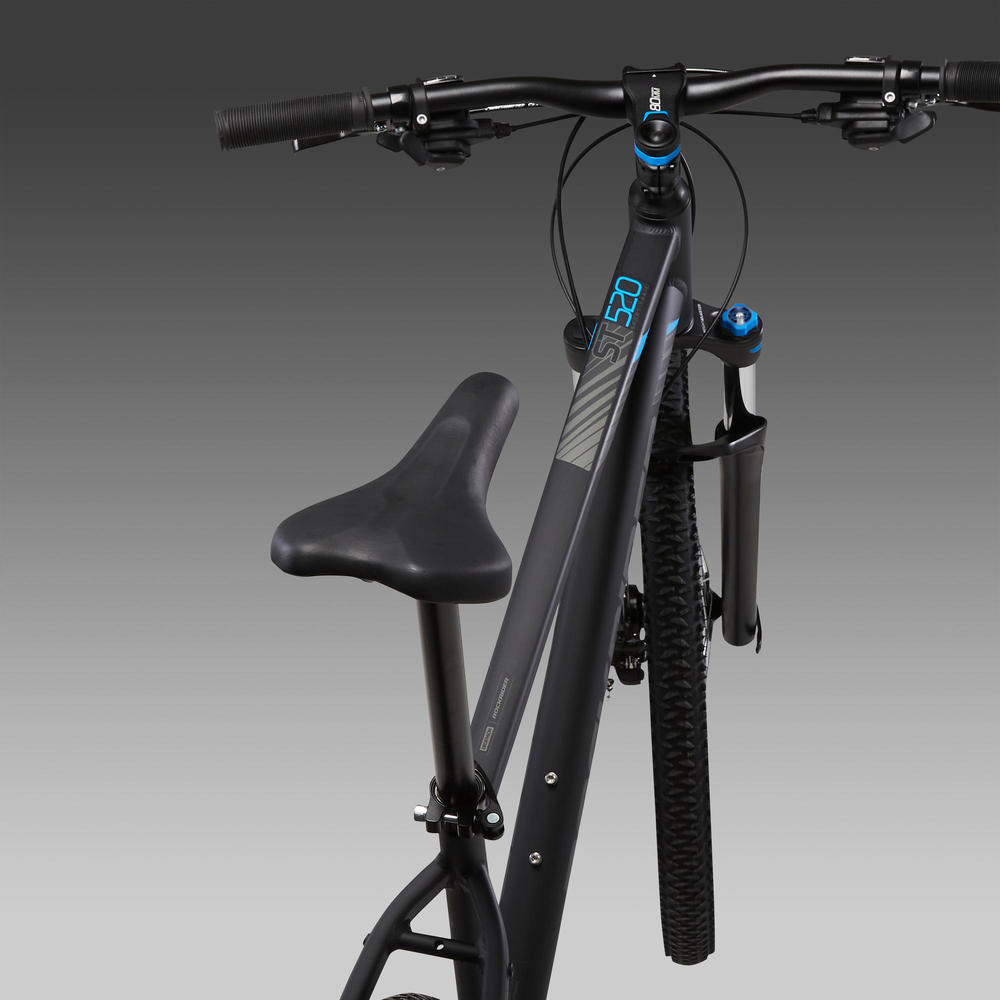MountainBike: (207, 56, 1000, 987)
